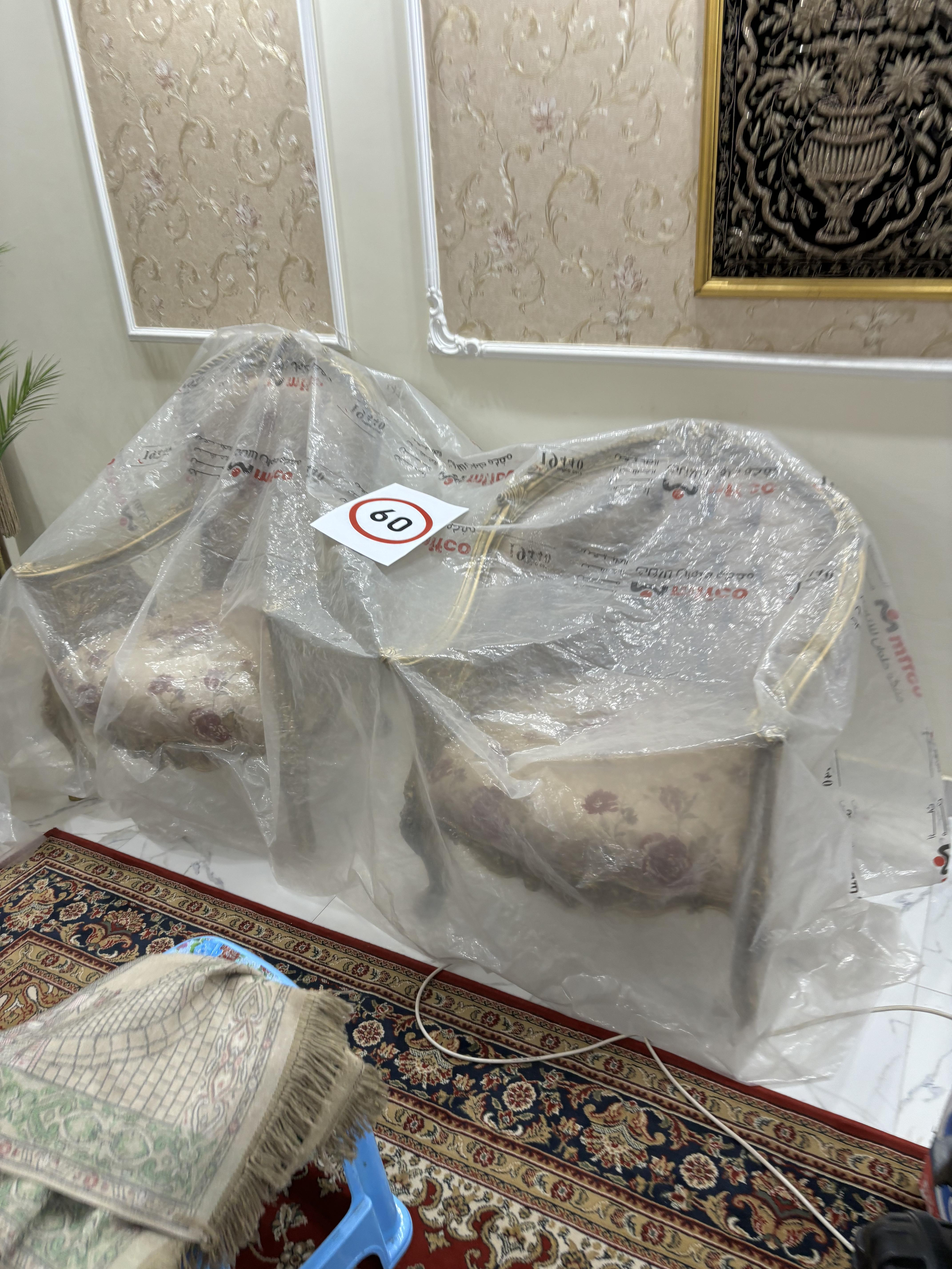60-Speed: (348, 491, 431, 547)
